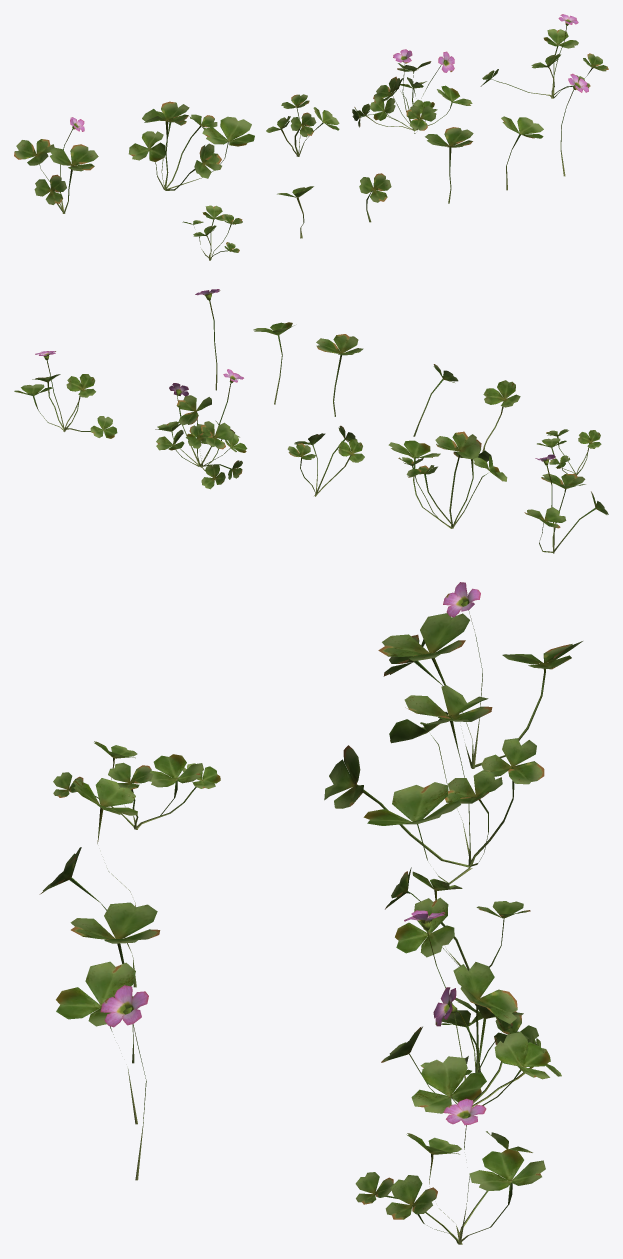
Rendered from shrub_sorrel_01-high.glb.
3 views of the same model, one above another, from view 1: azimuth 30°, elevation 25°; view 2: azimuth 150°, elevation 25°; view 3: azimuth 270°, elevation 25° (orthographic). The views are drawn at different scales.
Visible parts, largest first — view 1: shrub_sorrel_01_b, shrub_sorrel_01_d, shrub_sorrel_01_a, shrub_sorrel_01_e, shrub_sorrel_01_c, shrub_sorrel_01_f, shrub_sorrel_01_i, shrub_sorrel_01_h, shrub_sorrel_01_j, shrub_sorrel_01_k; view 2: shrub_sorrel_01_d, shrub_sorrel_01_b, shrub_sorrel_01_e, shrub_sorrel_01_a, shrub_sorrel_01_c, shrub_sorrel_01_f, shrub_sorrel_01_i, shrub_sorrel_01_g, shrub_sorrel_01_j; view 3: shrub_sorrel_01_b, shrub_sorrel_01_d, shrub_sorrel_01_e, shrub_sorrel_01_a, shrub_sorrel_01_f, shrub_sorrel_01_c, shrub_sorrel_01_j, shrub_sorrel_01_i, shrub_sorrel_01_k, shrub_sorrel_01_g.
Boxes of the visible parts, box(x1,y1,x2,y2) form: shrub_sorrel_01_b: box(128, 101, 254, 190); shrub_sorrel_01_d: box(352, 49, 472, 133); shrub_sorrel_01_a: box(14, 117, 98, 213); shrub_sorrel_01_e: box(480, 14, 608, 98); shrub_sorrel_01_c: box(266, 94, 339, 156); shrub_sorrel_01_f: box(182, 205, 242, 260); shrub_sorrel_01_i: box(425, 127, 473, 203); shrub_sorrel_01_h: box(359, 173, 391, 222); shrub_sorrel_01_j: box(501, 116, 543, 190); shrub_sorrel_01_k: box(560, 73, 588, 176); shrub_sorrel_01_d: box(155, 369, 247, 489); shrub_sorrel_01_b: box(388, 431, 507, 528); shrub_sorrel_01_e: box(14, 351, 117, 438); shrub_sorrel_01_a: box(524, 454, 608, 553); shrub_sorrel_01_c: box(287, 425, 364, 496); shrub_sorrel_01_f: box(537, 429, 601, 475); shrub_sorrel_01_i: box(316, 334, 363, 416); shrub_sorrel_01_g: box(482, 380, 520, 451); shrub_sorrel_01_j: box(253, 322, 294, 404); shrub_sorrel_01_b: box(324, 685, 544, 884); shrub_sorrel_01_d: box(381, 910, 561, 1113); shrub_sorrel_01_e: box(355, 1098, 545, 1244); shrub_sorrel_01_a: box(378, 582, 582, 768); shrub_sorrel_01_f: box(53, 741, 220, 829); shrub_sorrel_01_c: box(385, 867, 530, 970); shrub_sorrel_01_j: box(56, 961, 137, 1124); shrub_sorrel_01_i: box(70, 902, 160, 1063); shrub_sorrel_01_k: box(100, 985, 148, 1180); shrub_sorrel_01_g: box(73, 778, 137, 906).
Bounding box in the file's own units: 0.3521 × 0.058 × 0.1464.
1 material, 1 textured.
